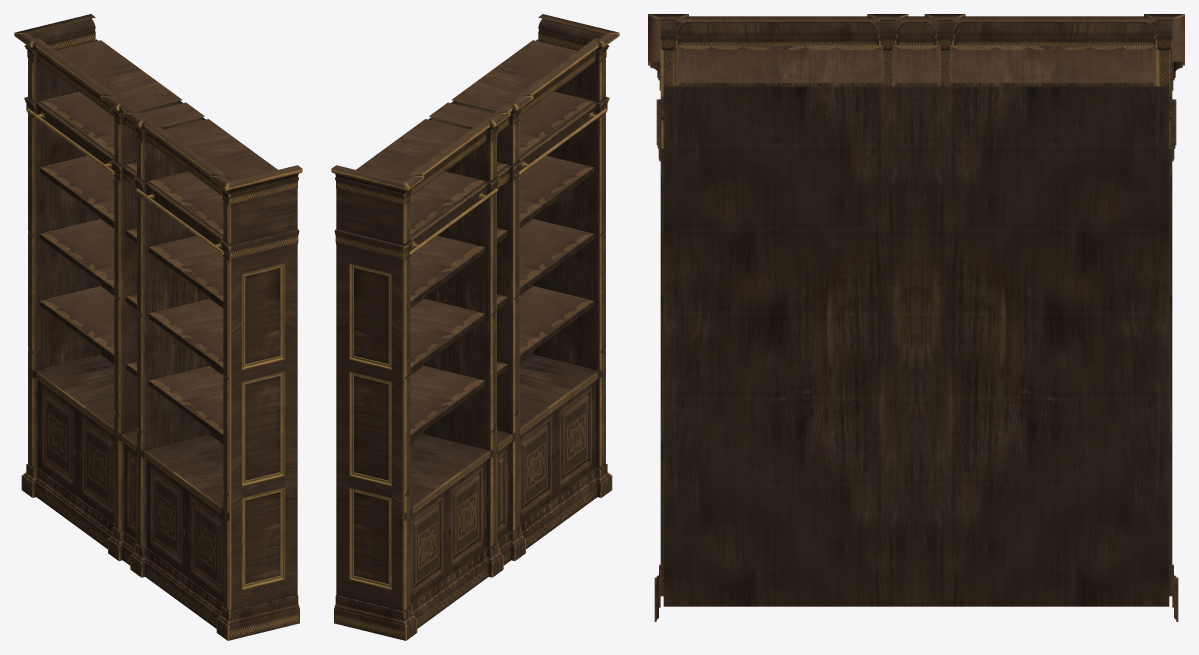
File: SM_Bookshelf_Double.fbx
The picture shows the model from 3 angles, left to right: view 1: azimuth 30°, elevation 25°; view 2: azimuth 150°, elevation 25°; view 3: azimuth 270°, elevation 25°; orthographic projection. The views are drawn at different scales.
Parts seen in each view (by area): view 1: SM_Bookshelf_Double_LOD0; view 2: SM_Bookshelf_Double_LOD0; view 3: SM_Bookshelf_Double_LOD0.
Boxes of the visible parts, x1,y1,x2,y2 form: SM_Bookshelf_Double_LOD0: [14, 14, 302, 640]; SM_Bookshelf_Double_LOD0: [331, 14, 619, 640]; SM_Bookshelf_Double_LOD0: [648, 14, 1184, 621].
Size of the model in its own units: 66.04 by 315 by 375.
Materials: 1 (1 with a texture image).
